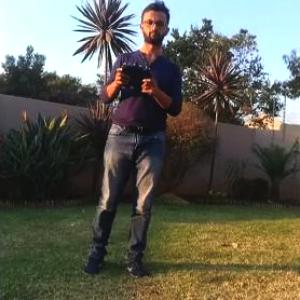follow: (77, 0, 188, 282)
